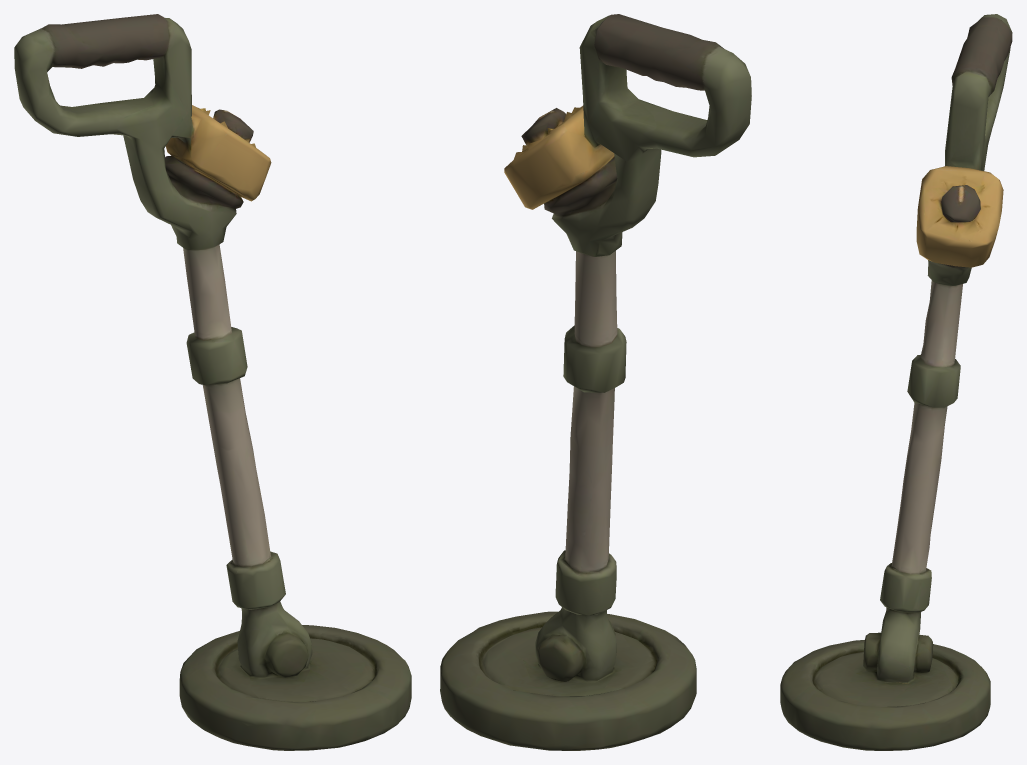
Rendered from detector.glb.
3 renders of one model, left to right at view 1: azimuth 30°, elevation 25°; view 2: azimuth 150°, elevation 25°; view 3: azimuth 270°, elevation 25°, orthographic. The views are drawn at different scales.
Visible parts, largest first — view 1: tripo_node_4fc07181-79b8-431d-8014-2d0bfa4cd82b; view 2: tripo_node_4fc07181-79b8-431d-8014-2d0bfa4cd82b; view 3: tripo_node_4fc07181-79b8-431d-8014-2d0bfa4cd82b.
Part boxes in pixels (left/top/right/bottom): tripo_node_4fc07181-79b8-431d-8014-2d0bfa4cd82b: left=14, top=14, right=411, bottom=750; tripo_node_4fc07181-79b8-431d-8014-2d0bfa4cd82b: left=440, top=14, right=751, bottom=750; tripo_node_4fc07181-79b8-431d-8014-2d0bfa4cd82b: left=780, top=14, right=1012, bottom=750.
Bounding box in the file's own units: 0.4924 × 1 × 0.3445.
Materials: 1 (1 with a texture image).
